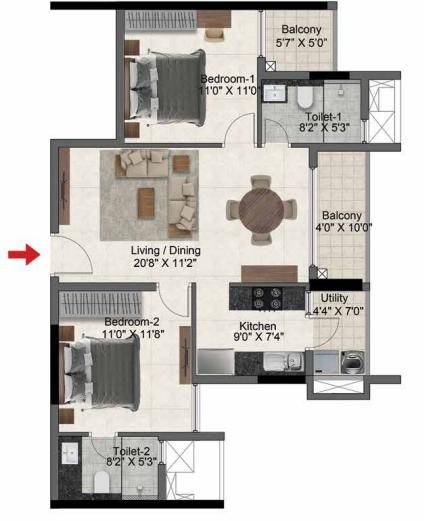Balcony: (315, 147, 371, 281), (259, 4, 336, 71)
Bed: (56, 338, 137, 410), (119, 54, 202, 124)
Bedroom: (58, 289, 194, 434), (122, 5, 255, 143)
Dining Room: (212, 157, 310, 275)
Dining table: (218, 169, 303, 245)
Kitchen: (199, 282, 309, 380)
Living Room: (68, 149, 210, 281)
Sofa: (169, 180, 197, 229), (116, 152, 165, 175)
Wardrobe: (59, 290, 144, 322), (126, 12, 197, 33)
commode: (94, 472, 112, 493), (297, 87, 314, 108)
door: (55, 234, 94, 273), (221, 109, 255, 143), (308, 316, 342, 349), (157, 283, 189, 316), (264, 117, 290, 143), (91, 435, 115, 463)
fridge: (198, 349, 234, 375)
kitchen-slab: (229, 284, 308, 310), (235, 351, 308, 379)
sink: (262, 353, 305, 372), (263, 84, 285, 102), (62, 442, 77, 464)
stove: (250, 285, 283, 310)
toilet: (57, 437, 167, 509), (259, 78, 363, 145)
tv: (178, 325, 195, 385), (58, 148, 71, 222)
utility: (312, 294, 366, 378)
washing-machine: (340, 351, 365, 375)
